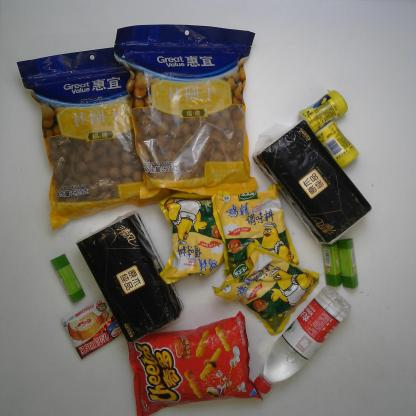Dessert: (61, 293, 128, 360)
Dried Food: (16, 39, 188, 232), (112, 22, 262, 198)
Drink: (252, 284, 353, 394)
Gum: (296, 88, 350, 139), (310, 118, 361, 170)
Puffed Food: (125, 309, 265, 416)
Seasoner: (210, 237, 323, 339), (210, 180, 302, 279), (156, 187, 236, 286)
Stationery: (47, 251, 86, 305), (336, 236, 361, 290), (320, 239, 344, 289)
Tissue: (250, 116, 375, 250), (75, 208, 186, 344)
